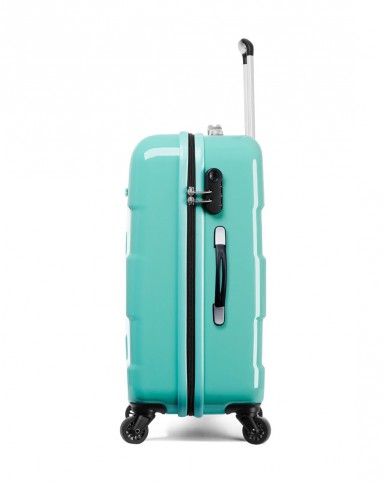luggage: (120, 37, 271, 449)
